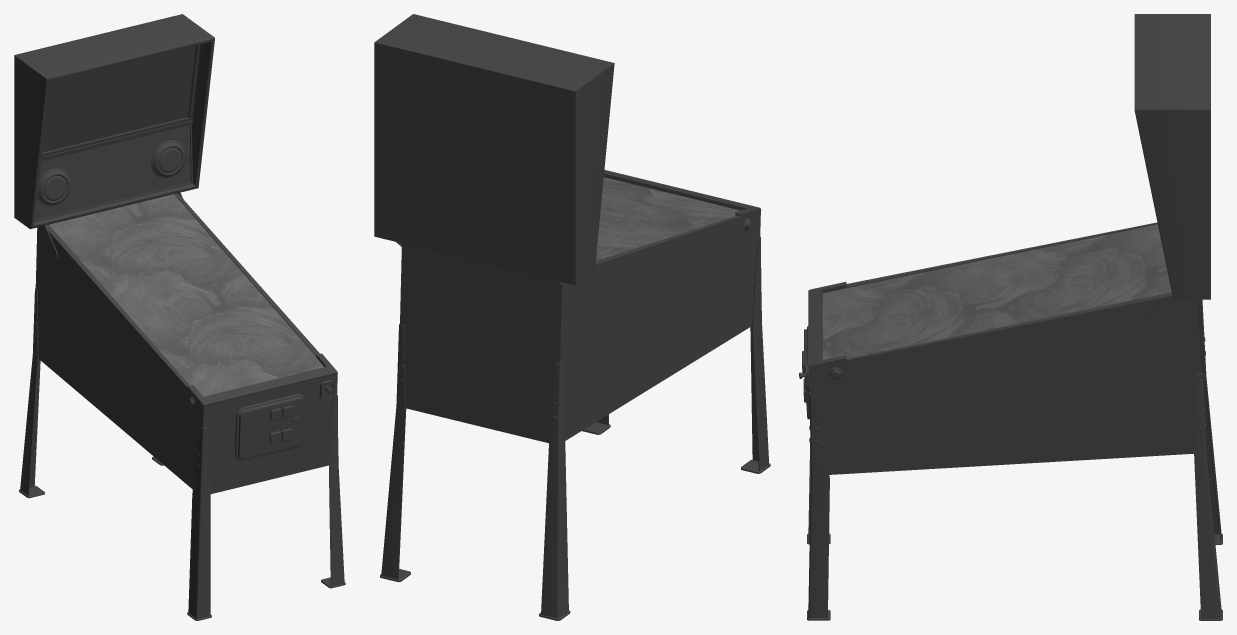
The model's file is uploads_files_6515259_cgtrader_optimized_pinball-001-FBX_1_.fbx.
The picture shows the model from 3 angles, left to right: view 1: azimuth 30°, elevation 25°; view 2: azimuth 150°, elevation 25°; view 3: azimuth 270°, elevation 25°; orthographic projection. The views are drawn at different scales.
Parts seen in each view (by area): view 1: pinball-body-base, pinball-monitor, pinball-glass; view 2: pinball-body-base, pinball-monitor, pinball-glass; view 3: pinball-body-base, pinball-glass, pinball-monitor.
Boxes of the visible parts, x1=… form: pinball-body-base: x1=19, y1=193, x2=345, y2=620; pinball-monitor: x1=14, y1=14, x2=214, y2=262; pinball-glass: x1=49, y1=194, x2=323, y2=396; pinball-body-base: x1=380, y1=170, x2=770, y2=620; pinball-monitor: x1=374, y1=14, x2=614, y2=299; pinball-glass: x1=596, y1=177, x2=739, y2=260; pinball-body-base: x1=799, y1=222, x2=1222, y2=620; pinball-glass: x1=822, y1=224, x2=1171, y2=359; pinball-monitor: x1=1134, y1=14, x2=1210, y2=327.
Size of the model in its own units: 0.7044 by 1.77 by 1.31.
